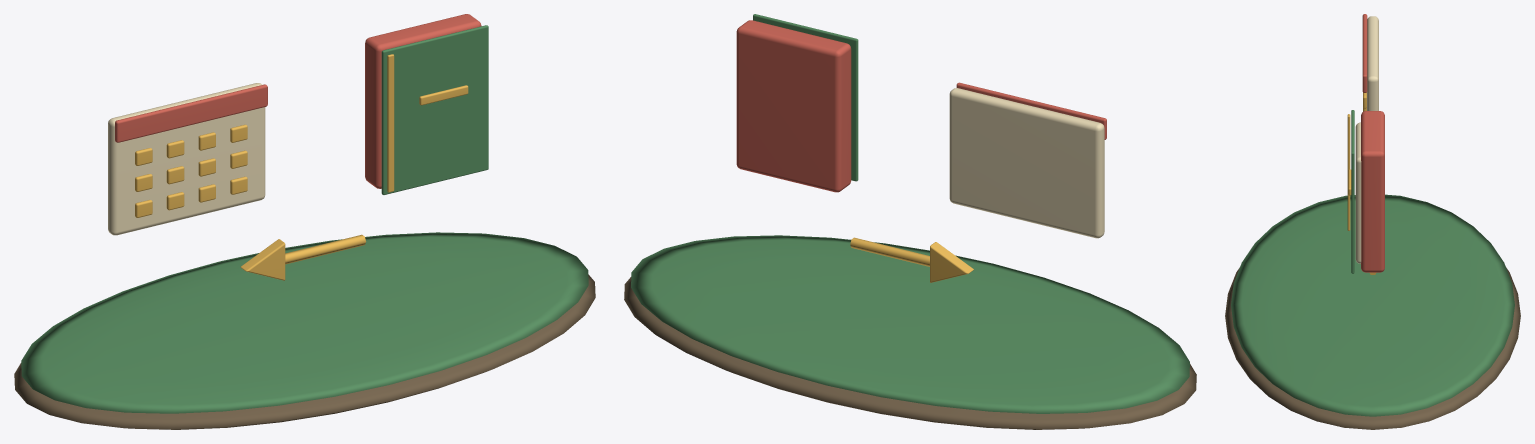
File: complete-first-history-records.glb
3 views of the same model, side by side, from view 1: azimuth 30°, elevation 25°; view 2: azimuth 150°, elevation 25°; view 3: azimuth 270°, elevation 25° (orthographic). The views are drawn at different scales.
Visible parts, largest first — view 1: complete-first-history-records_surface_01, complete-first-history-records_surface_02, complete-first-history-records_surface_00, complete-first-history-records_surface_03, complete-first-history-records_surface_04; view 2: complete-first-history-records_surface_01, complete-first-history-records_surface_03, complete-first-history-records_surface_02, complete-first-history-records_surface_00, complete-first-history-records_surface_04; view 3: complete-first-history-records_surface_01, complete-first-history-records_surface_00, complete-first-history-records_surface_03, complete-first-history-records_surface_02, complete-first-history-records_surface_04.
Part boxes in pixels (x1=…): complete-first-history-records_surface_01: x1=21, y1=25, x2=588, y2=413; complete-first-history-records_surface_02: x1=108, y1=83, x2=265, y2=235; complete-first-history-records_surface_00: x1=14, y1=274, x2=595, y2=429; complete-first-history-records_surface_03: x1=115, y1=14, x2=481, y2=188; complete-first-history-records_surface_04: x1=135, y1=54, x2=468, y2=280; complete-first-history-records_surface_01: x1=631, y1=14, x2=1189, y2=413; complete-first-history-records_surface_03: x1=736, y1=20, x2=1106, y2=192; complete-first-history-records_surface_02: x1=949, y1=88, x2=1104, y2=238; complete-first-history-records_surface_00: x1=624, y1=277, x2=1196, y2=429; complete-first-history-records_surface_04: x1=850, y1=237, x2=973, y2=282; complete-first-history-records_surface_01: x1=1231, y1=110, x2=1514, y2=416; complete-first-history-records_surface_00: x1=1225, y1=267, x2=1520, y2=429; complete-first-history-records_surface_03: x1=1361, y1=14, x2=1384, y2=272; complete-first-history-records_surface_02: x1=1355, y1=16, x2=1378, y2=263; complete-first-history-records_surface_04: x1=1347, y1=92, x2=1376, y2=274.
Size of the model in its own units: 4.56 by 2.31 by 2.5.
